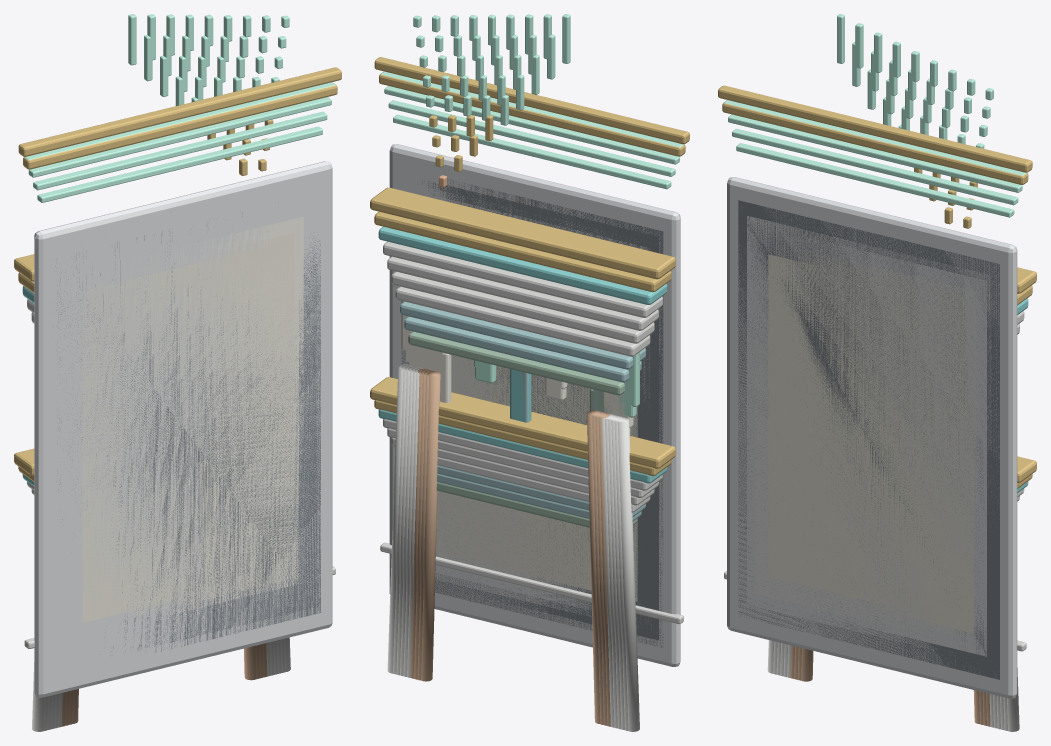
The model's file is Gear15.fbx.
The picture shows the model from 3 angles, left to right: view 1: azimuth 30°, elevation 25°; view 2: azimuth 150°, elevation 25°; view 3: azimuth 330°, elevation 25°; orthographic projection. The views are drawn at different scales.
Parts seen in each view (by area): view 1: Gear15_V10_Platinum, Gear15_V1_Ivory, Gear15_V7_Graphite, Gear15_V3_Linen, Gear15_V2_Ivory, Gear15_V8_Graphite, Gear15_V10_Gold, Gear15_V9_Glow, Gear15_V8_Glow, Gear15_V6_Platinum, Gear15_V9_Platinum, Gear15_V10_Glow (+6 smaller); view 2: Gear15_V10_Platinum, Gear15_V10_Gold, Gear15_V2_Ivory, Gear15_V7_Graphite, Gear15_V9_Gold, Gear15_V7_Chrome, Gear15_V6_Chrome, Gear15_V5_Chrome, Gear15_V10_Chrome, Gear15_V5_Platinum, Gear15_V9_Platinum, Gear15_V8_Aqua (+21 smaller); view 3: Gear15_V10_Platinum, Gear15_V2_Ivory, Gear15_V5_Platinum, Gear15_V1_Ivory, Gear15_V8_Graphite, Gear15_V6_Platinum, Gear15_V9_Platinum, Gear15_V3_Linen, Gear15_V7_Graphite, Gear15_V10_Gold, Gear15_V9_Glow, Gear15_V8_Glow (+6 smaller).
Boxes of the visible parts, x1=… form: Gear15_V10_Platinum: x1=34, y1=161, x2=332, y2=697; Gear15_V1_Ivory: x1=82, y1=241, x2=290, y2=622; Gear15_V7_Graphite: x1=56, y1=212, x2=316, y2=651; Gear15_V3_Linen: x1=74, y1=225, x2=298, y2=622; Gear15_V2_Ivory: x1=79, y1=233, x2=294, y2=624; Gear15_V8_Graphite: x1=52, y1=232, x2=320, y2=652; Gear15_V10_Gold: x1=14, y1=67, x2=341, y2=475; Gear15_V9_Glow: x1=28, y1=35, x2=331, y2=177; Gear15_V8_Glow: x1=33, y1=55, x2=327, y2=190; Gear15_V6_Platinum: x1=61, y1=201, x2=312, y2=644; Gear15_V9_Platinum: x1=48, y1=177, x2=325, y2=624; Gear15_V10_Glow: x1=24, y1=14, x2=335, y2=159; Gear15_V10_Platinum: x1=389, y1=144, x2=680, y2=666; Gear15_V10_Gold: x1=370, y1=57, x2=689, y2=468; Gear15_V2_Ivory: x1=436, y1=355, x2=637, y2=601; Gear15_V7_Graphite: x1=422, y1=180, x2=658, y2=640; Gear15_V9_Gold: x1=374, y1=72, x2=685, y2=476; Gear15_V7_Chrome: x1=383, y1=241, x2=665, y2=729; Gear15_V6_Chrome: x1=387, y1=256, x2=661, y2=728; Gear15_V5_Chrome: x1=391, y1=271, x2=656, y2=727; Gear15_V10_Chrome: x1=380, y1=364, x2=683, y2=731; Gear15_V5_Platinum: x1=414, y1=191, x2=649, y2=622; Gear15_V9_Platinum: x1=397, y1=178, x2=667, y2=655; Gear15_V8_Aqua: x1=378, y1=226, x2=667, y2=483; Gear15_V10_Platinum: x1=727, y1=177, x2=1017, y2=698; Gear15_V2_Ivory: x1=764, y1=250, x2=974, y2=633; Gear15_V5_Platinum: x1=751, y1=232, x2=986, y2=656; Gear15_V1_Ivory: x1=768, y1=254, x2=964, y2=615; Gear15_V8_Graphite: x1=738, y1=200, x2=999, y2=679; Gear15_V6_Platinum: x1=747, y1=216, x2=991, y2=647; Gear15_V9_Platinum: x1=734, y1=193, x2=1003, y2=687; Gear15_V3_Linen: x1=759, y1=245, x2=978, y2=638; Gear15_V7_Graphite: x1=742, y1=208, x2=995, y2=671; Gear15_V10_Gold: x1=718, y1=85, x2=1036, y2=482; Gear15_V9_Glow: x1=728, y1=42, x2=1022, y2=192; Gear15_V8_Glow: x1=732, y1=69, x2=1018, y2=205.
Size of the model in its own units: 117 by 246 by 18.2.
